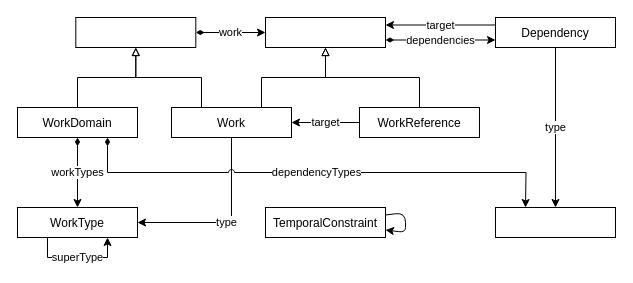
The diagram is 633 pixels wide and 283 high, and some of its shapes have lost their labels. Each missing label, with the centre of its shape:
AbstractWork: (325,32)
DependencyType: (555,222)
Workable: (135,32)
